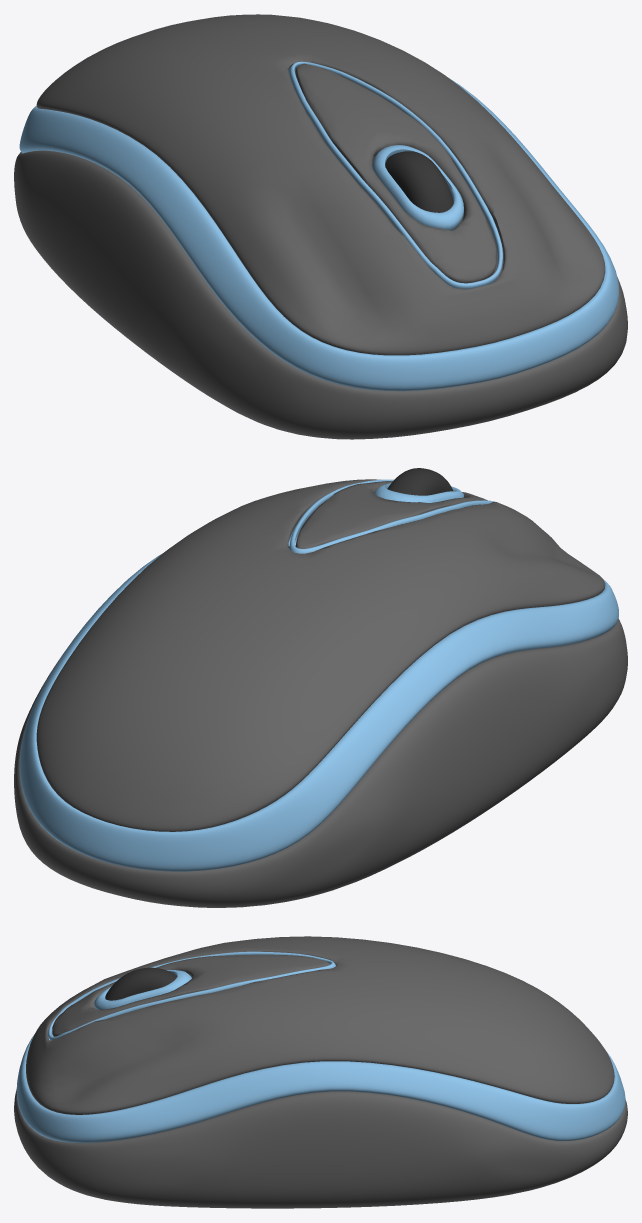
Rendered from Mouse.fbx.
3 renders of one model, top to bottom at view 1: azimuth 30°, elevation 25°; view 2: azimuth 150°, elevation 25°; view 3: azimuth 270°, elevation 25°, orthographic. The views are drawn at different scales.
Parts seen in each view (by area): view 1: Body, Borders, Scroll; view 2: Body, Borders, Scroll; view 3: Body, Borders, Scroll.
Boxes of the visible parts, x1,y1,x2,y2 form: Body: [14, 14, 627, 439]; Borders: [19, 61, 618, 391]; Scroll: [385, 151, 458, 225]; Body: [14, 479, 627, 907]; Borders: [19, 479, 618, 871]; Scroll: [387, 468, 453, 495]; Body: [14, 936, 627, 1208]; Borders: [16, 951, 625, 1143]; Scroll: [105, 967, 177, 1000].
Bounding box in the file's own units: 6.95 × 3.99 × 11.86.
